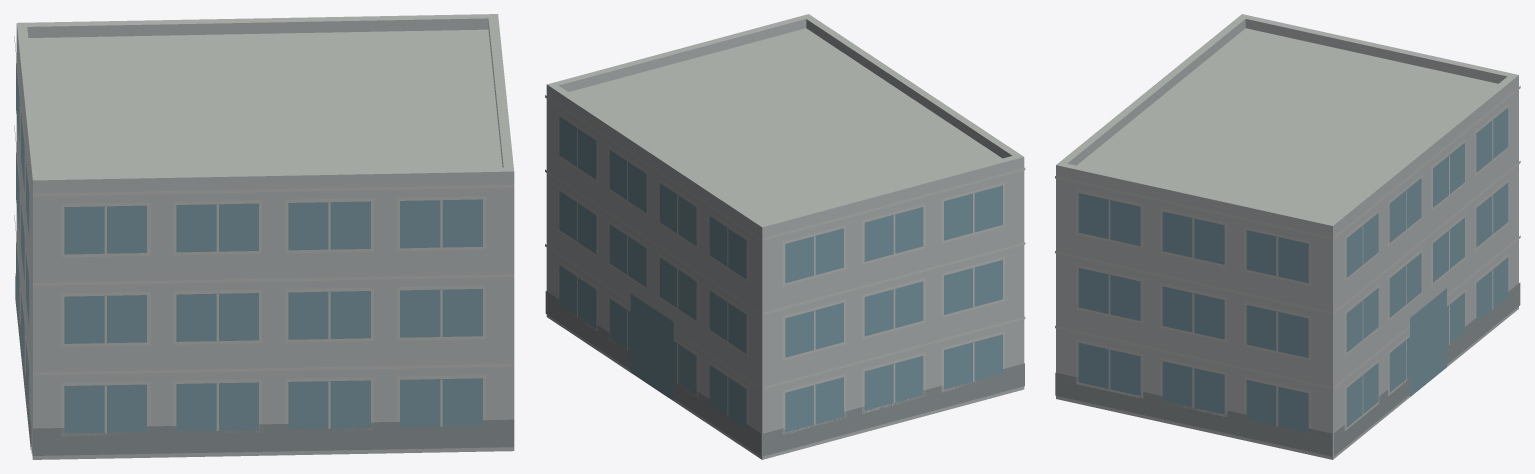
File: public-91d78f39-6f5a-4c6b-b520-13e362092ebc.glb
3 renders of one model, left to right at view 1: azimuth 30°, elevation 25°; view 2: azimuth 150°, elevation 25°; view 3: azimuth 270°, elevation 25°, orthographic. The views are drawn at different scales.
Parts seen in each view (by area): view 1: public-91d78f39-6f5a-4c6b-b520-13e362092ebc; view 2: public-91d78f39-6f5a-4c6b-b520-13e362092ebc; view 3: public-91d78f39-6f5a-4c6b-b520-13e362092ebc.
Boxes of the visible parts, x1=… form: public-91d78f39-6f5a-4c6b-b520-13e362092ebc: x1=14, y1=14, x2=514, y2=459; public-91d78f39-6f5a-4c6b-b520-13e362092ebc: x1=545, y1=14, x2=1025, y2=459; public-91d78f39-6f5a-4c6b-b520-13e362092ebc: x1=1055, y1=14, x2=1520, y2=459.
Size of the model in its own units: 17.92 by 9.15 by 16.54.
